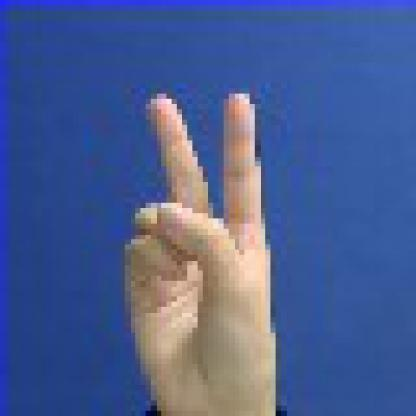two: (120, 78, 296, 411)
